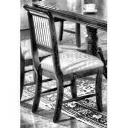chair_success: (22, 2, 109, 124)
